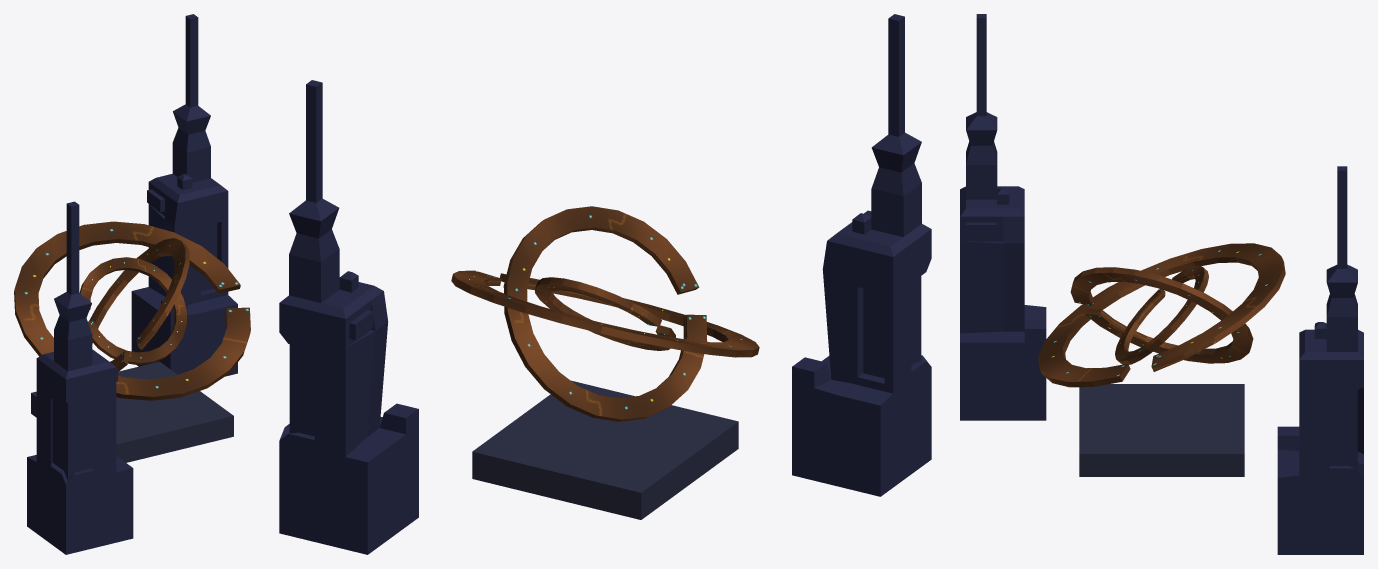
File: Static_Gyro3.glb
3 views of the same model, side by side, from view 1: azimuth 30°, elevation 25°; view 2: azimuth 150°, elevation 25°; view 3: azimuth 270°, elevation 25° (orthographic). The views are drawn at different scales.
Parts seen in each view (by area): view 1: Cylinder; view 2: Cylinder; view 3: Cylinder.
Part boxes in pixels (left/top/right/bottom): Cylinder: left=14, top=14, right=250, bottom=554; Cylinder: left=279, top=14, right=931, bottom=554; Cylinder: left=960, top=14, right=1363, bottom=554.
Size of the model in its own units: 6.36 by 6.55 by 6.36.
Materials: 4 (1 with a texture image).
